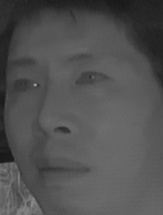eye: (73, 68, 112, 93), (9, 77, 43, 97)
mouth: (33, 151, 91, 186)
